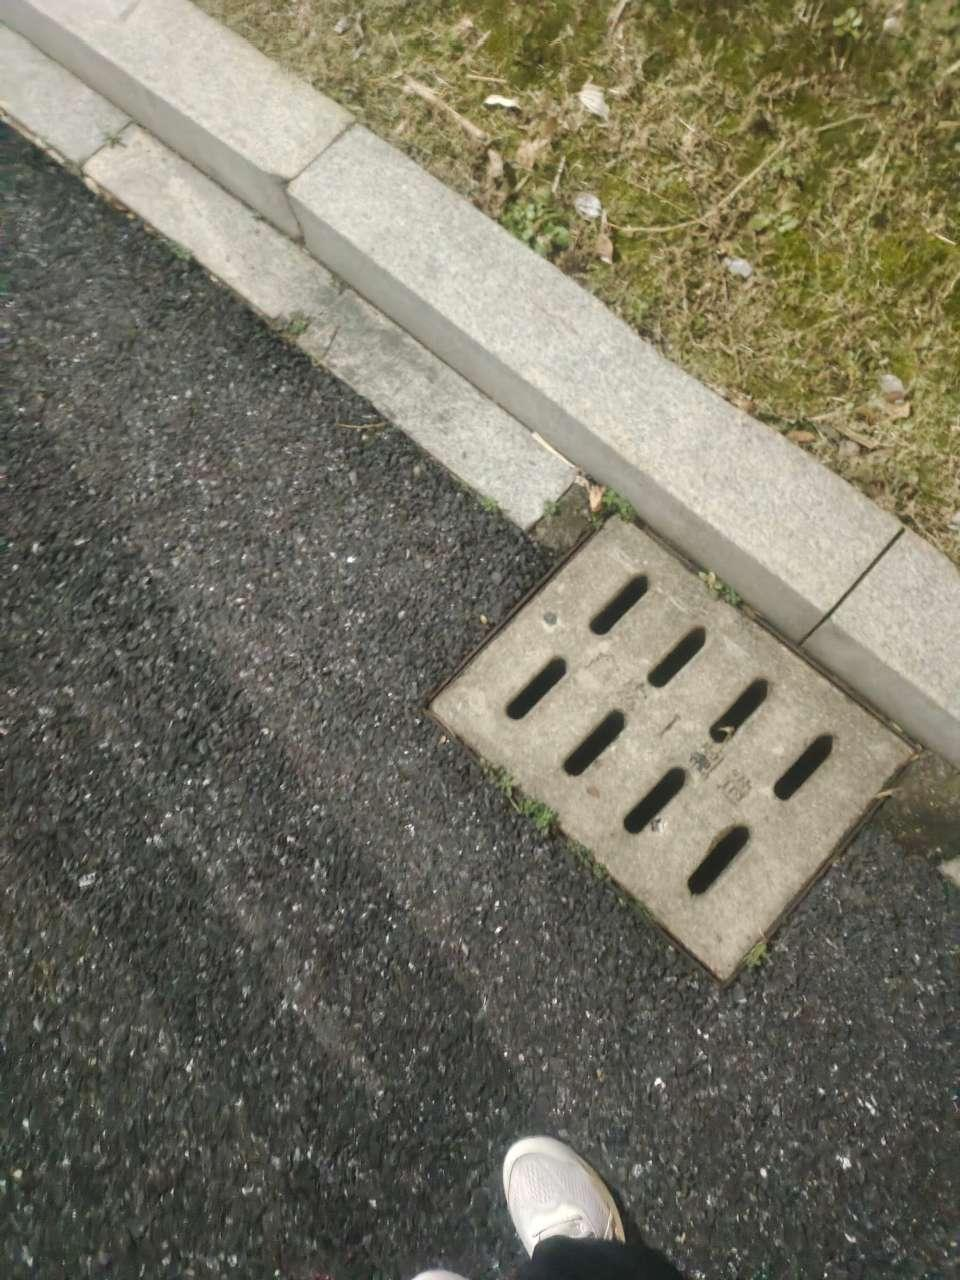wellcover: (424, 497, 935, 991)
